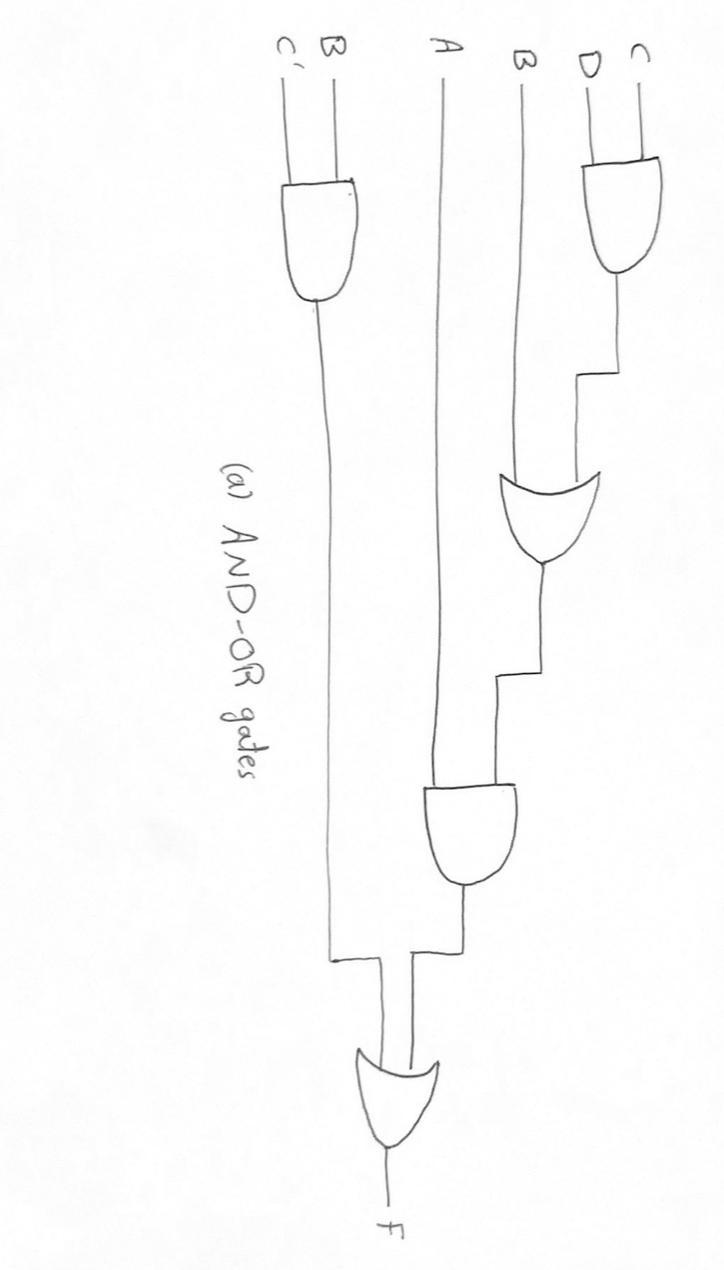AND: (395, 770, 548, 899), (563, 142, 683, 290), (267, 155, 379, 312)
OR: (483, 445, 621, 585), (338, 1028, 470, 1165)
